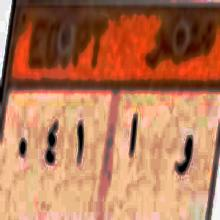0: (16, 129, 31, 171)
1: (75, 119, 87, 169)
4: (41, 119, 61, 178)
alif: (124, 106, 141, 170)
waw: (174, 122, 194, 181)
